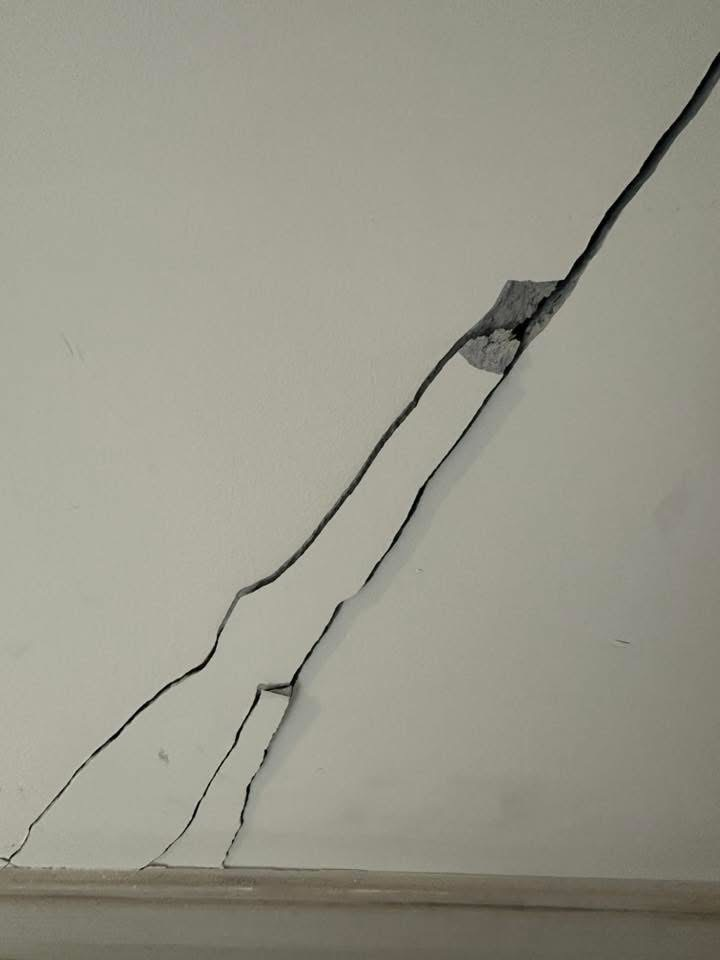Medium: (47, 147, 673, 848)
